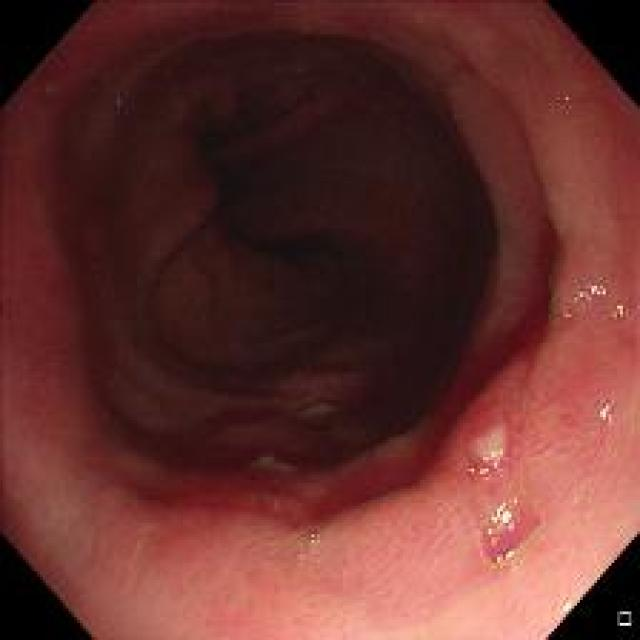bubbles: (300, 525, 321, 554)
color misalignment: (572, 271, 634, 340), (482, 499, 516, 578), (586, 381, 624, 438), (549, 216, 561, 339), (468, 454, 515, 481), (556, 86, 586, 115), (108, 88, 129, 114), (41, 78, 60, 105)
contrast: (62, 35, 535, 500)
